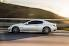car: (7, 19, 59, 34), (6, 20, 57, 34)
